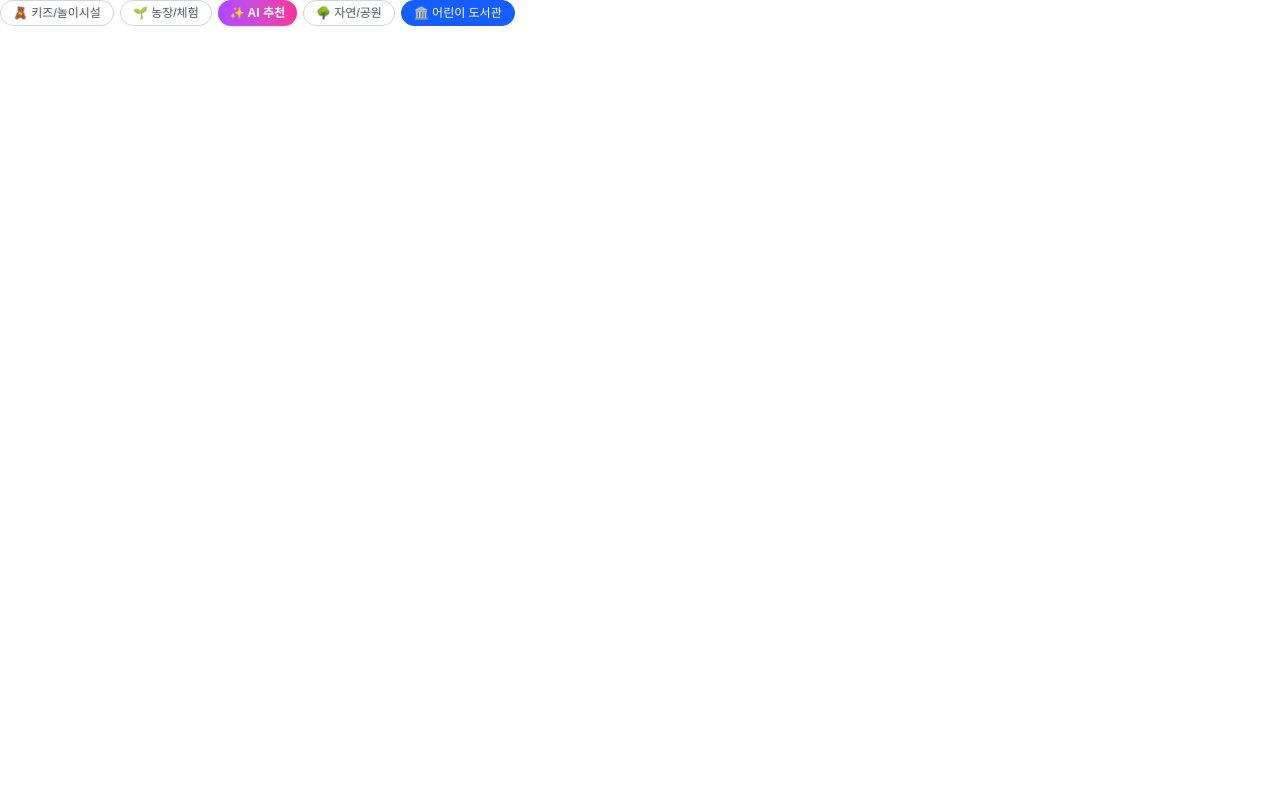
SpotCategoryFilter › 결과 로딩 중에는 "불러오는 중..." 안내를 보여준다
Click the button "🏛️ 어린이 도서관" at (458, 13), box [401, 0, 515, 26]
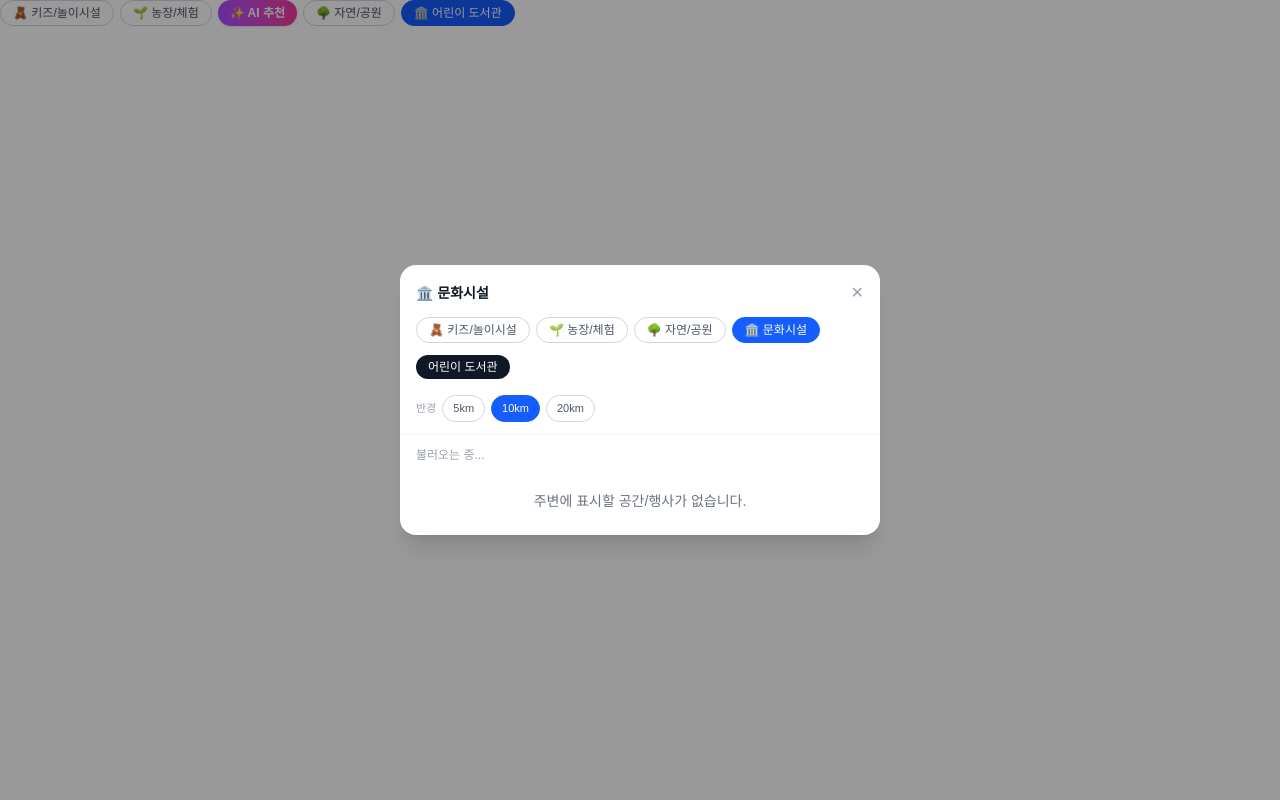
Now the text "불러오는 중..." is shown, box [416, 448, 484, 462]
